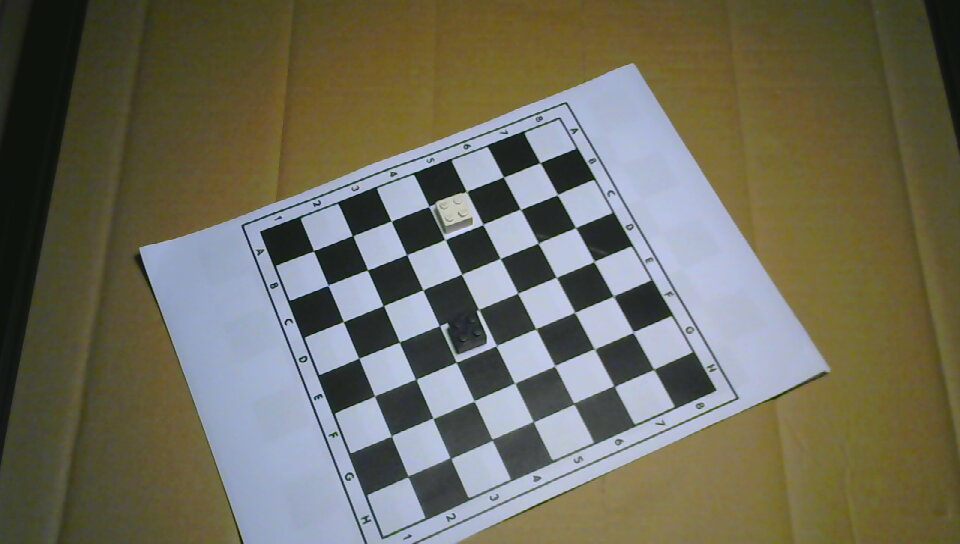bp: (446, 311, 487, 353)
wp: (434, 193, 474, 233)
